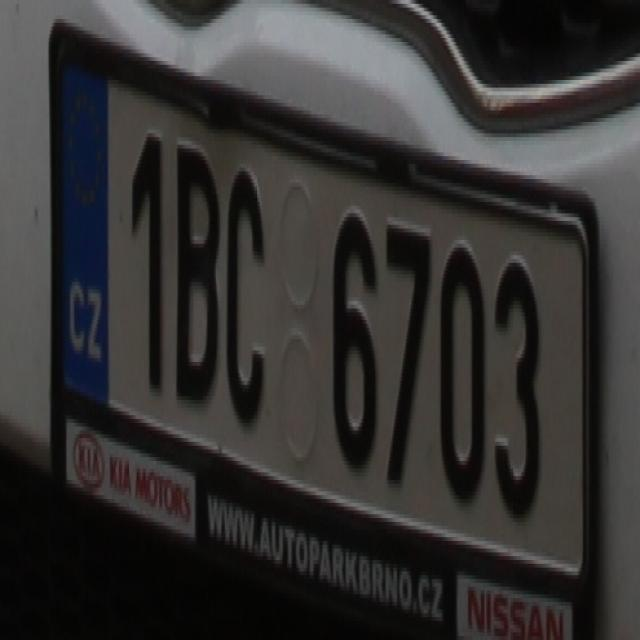0: (437, 236, 482, 518)
1: (128, 122, 164, 396)
3: (494, 248, 540, 530)
6: (328, 194, 375, 480)
7: (384, 209, 431, 503)
B: (170, 126, 220, 415)
C: (221, 152, 265, 442)
